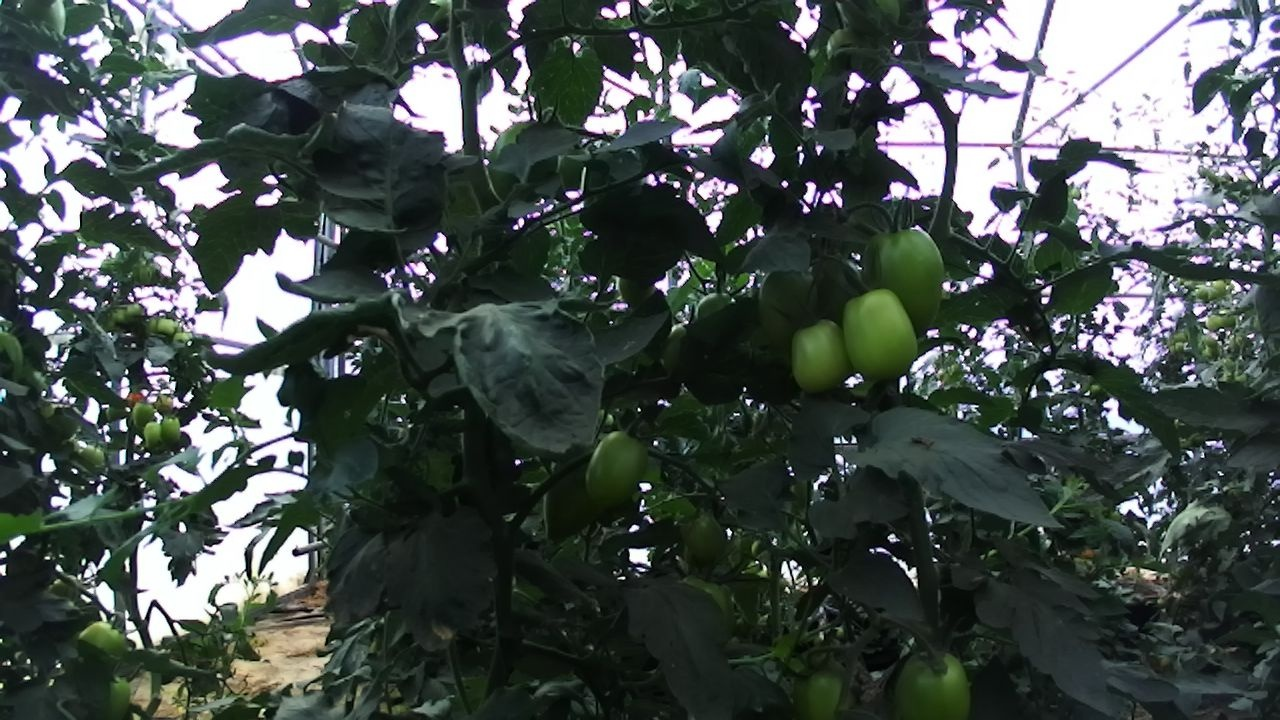tomato: (843, 198, 969, 362), (831, 276, 930, 400), (774, 303, 874, 410), (478, 106, 577, 213), (878, 628, 991, 720), (533, 439, 618, 554), (749, 250, 831, 360), (575, 418, 657, 516), (775, 651, 865, 720), (68, 606, 140, 678), (670, 505, 741, 571), (16, 0, 79, 59), (609, 263, 667, 319), (94, 665, 147, 720), (126, 394, 162, 434), (75, 437, 111, 473), (155, 411, 185, 452), (141, 416, 166, 456), (120, 383, 151, 412), (152, 313, 180, 340), (151, 391, 177, 418), (169, 328, 195, 354), (110, 305, 136, 330), (122, 299, 148, 322), (1203, 311, 1226, 333), (1210, 276, 1229, 299)
